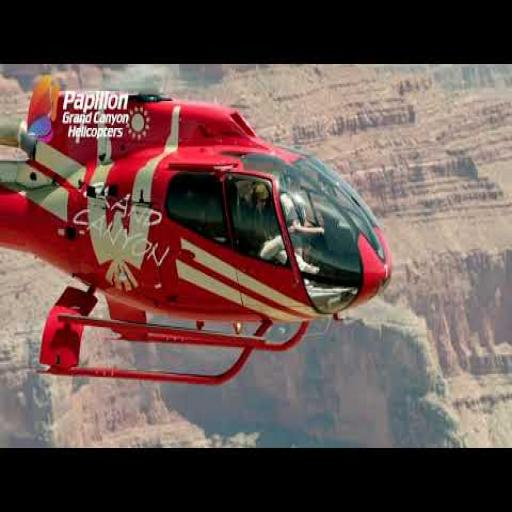helicopter: (2, 91, 402, 370)
